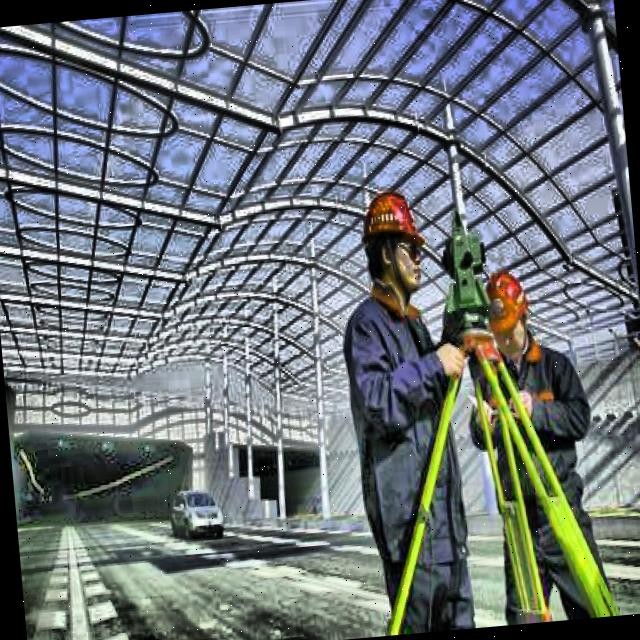helmet: (352, 180, 433, 304), (478, 263, 535, 353)
